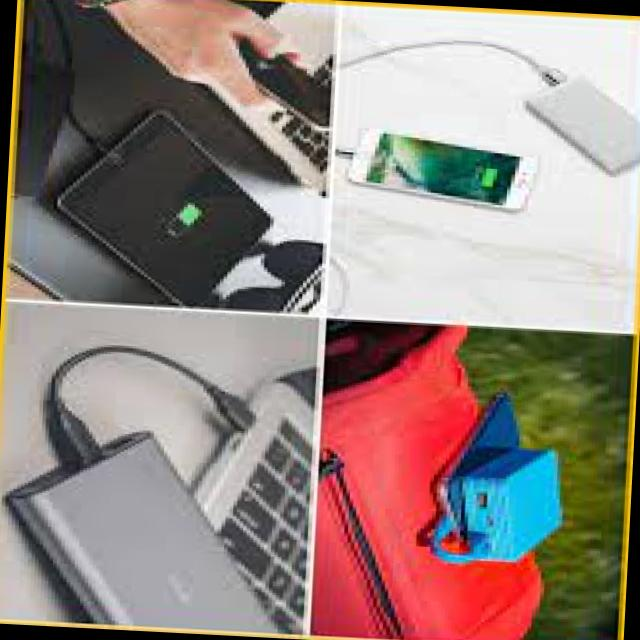power_bank: (0, 418, 302, 639), (433, 444, 576, 559), (507, 70, 640, 179)
